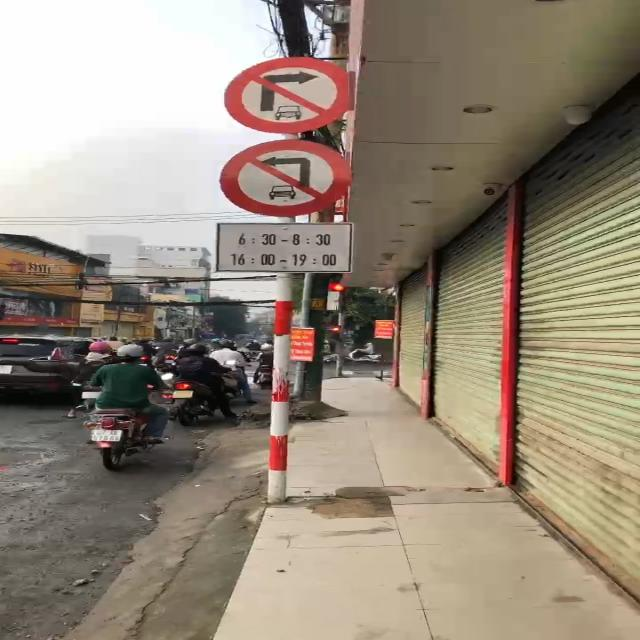Bien bao cam xe o to re phai: (216, 52, 364, 140)
Bien bao cam xe o to re trai: (214, 134, 362, 216)
